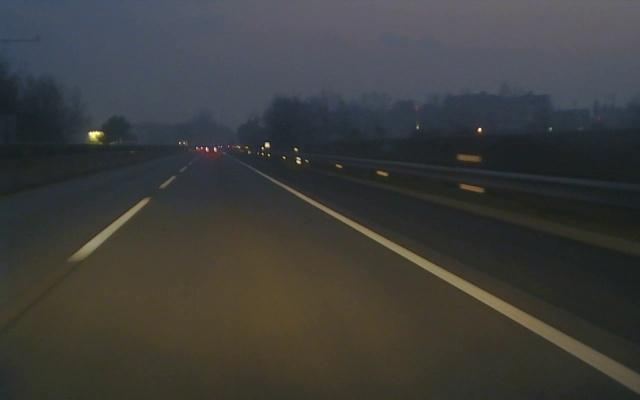lane: (258, 172, 640, 395), (68, 170, 183, 261)
